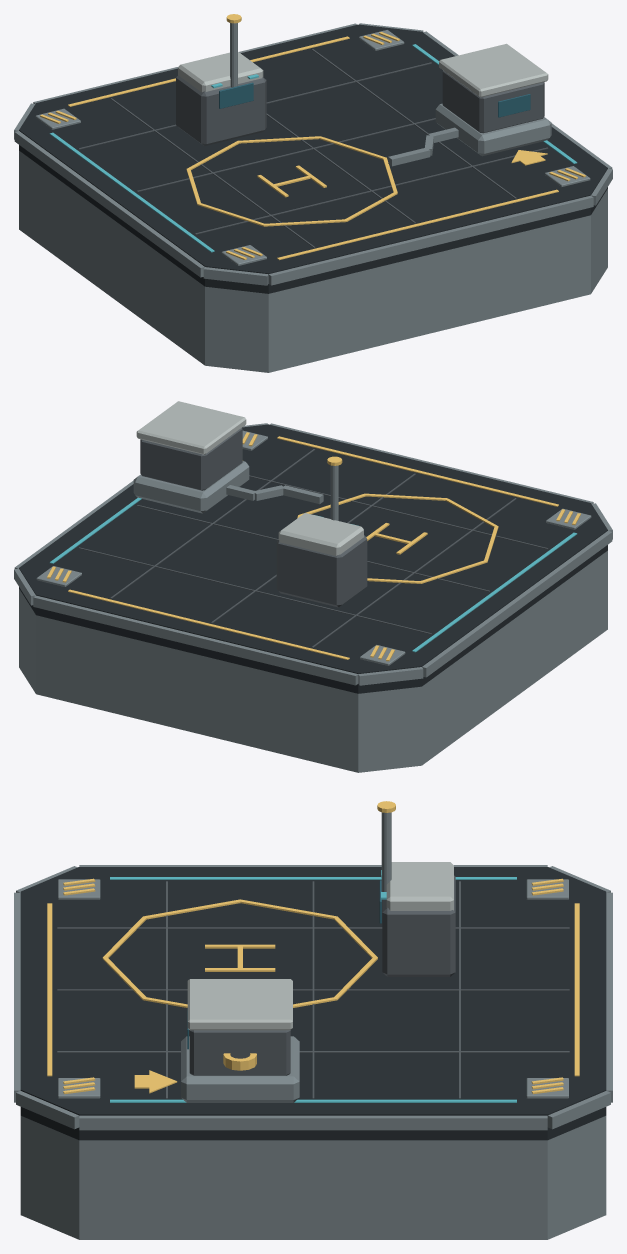
File: landing-station.glb
3 renders of one model, top to bottom at view 1: azimuth 30°, elevation 25°; view 2: azimuth 150°, elevation 25°; view 3: azimuth 270°, elevation 25°, orthographic. The views are drawn at different scales.
Visible parts, largest first — view 1: Space rocket launch pad / Scorched graphite interiors, Space rocket launch pad / Exposed survey ship frame, Space rocket launch pad / Station graphite enamel, Space rocket launch pad / Survey ship ivory armor, Space rocket launch pad / Survey ship gold identification, Space rocket launch pad / Opaque fractured cockpit glazing, Space rocket launch pad / Survey ship cyan service lines; view 2: Space rocket launch pad / Scorched graphite interiors, Space rocket launch pad / Exposed survey ship frame, Space rocket launch pad / Station graphite enamel, Space rocket launch pad / Survey ship ivory armor, Space rocket launch pad / Survey ship gold identification, Space rocket launch pad / Survey ship cyan service lines; view 3: Space rocket launch pad / Scorched graphite interiors, Space rocket launch pad / Exposed survey ship frame, Space rocket launch pad / Station graphite enamel, Space rocket launch pad / Survey ship ivory armor, Space rocket launch pad / Survey ship gold identification, Space rocket launch pad / Survey ship cyan service lines.
Boxes of the visible parts, x1,y1,x2,y2 form: Space rocket launch pad / Scorched graphite interiors: (19,24,607,293); Space rocket launch pad / Exposed survey ship frame: (14,23,612,372); Space rocket launch pad / Station graphite enamel: (78,49,548,247); Space rocket launch pad / Survey ship ivory armor: (178,43,548,97); Space rocket launch pad / Survey ship gold identification: (40,14,585,260); Space rocket launch pad / Opaque fractured cockpit glazing: (219,82,530,117); Space rocket launch pad / Survey ship cyan service lines: (49,44,577,252); Space rocket launch pad / Scorched graphite interiors: (19,424,607,693); Space rocket launch pad / Exposed survey ship frame: (14,423,612,772); Space rocket launch pad / Station graphite enamel: (78,428,548,647); Space rocket launch pad / Survey ship ivory armor: (136,401,363,555); Space rocket launch pad / Survey ship gold identification: (47,432,580,661); Space rocket launch pad / Survey ship cyan service lines: (49,497,577,652); Space rocket launch pad / Scorched graphite interiors: (20,867,606,1140); Space rocket launch pad / Exposed survey ship frame: (14,812,612,1239); Space rocket launch pad / Station graphite enamel: (57,875,569,1098); Space rocket launch pad / Survey ship ivory armor: (187,862,453,1030); Space rocket launch pad / Survey ship gold identification: (47,801,579,1094); Space rocket launch pad / Survey ship cyan service lines: (110,870,516,1102).
Size of the model in its own units: 4.09 by 2.11 by 4.09.
